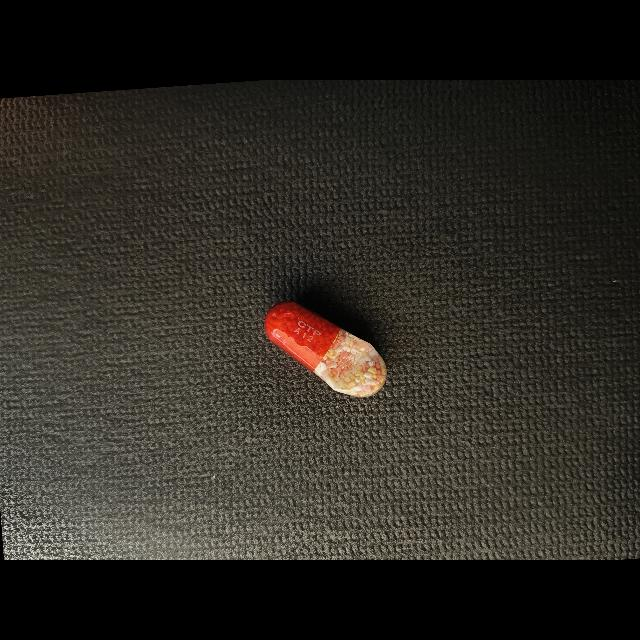Defective Capsule: (264, 301, 387, 397)
